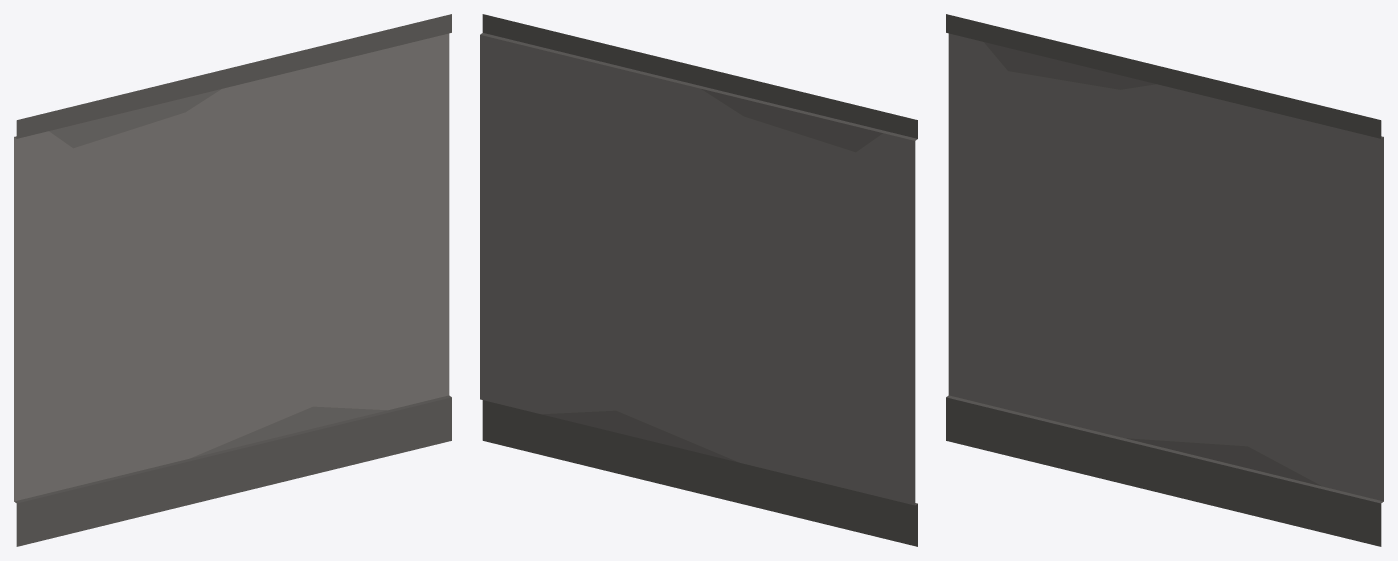
The model's file is AI_Env_Wall_Grey_Blank.fbx.
3 views of the same model, side by side, from view 1: azimuth 30°, elevation 25°; view 2: azimuth 150°, elevation 25°; view 3: azimuth 330°, elevation 25° (orthographic).
Visible parts, largest first — view 1: AI_Env_Wall_Grey_Blank; view 2: AI_Env_Wall_Grey_Blank; view 3: AI_Env_Wall_Grey_Blank.
Boxes of the visible parts, <box> form: AI_Env_Wall_Grey_Blank: <box>14,14,451,546</box>; AI_Env_Wall_Grey_Blank: <box>480,14,917,546</box>; AI_Env_Wall_Grey_Blank: <box>946,14,1383,546</box>.
Bounding box in the file's own units: 5 × 4.69 × 0.0549.
